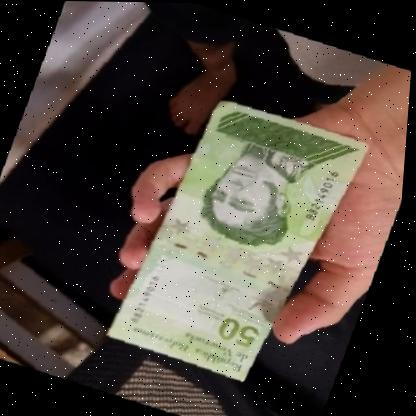fifty-front-vef: (105, 87, 377, 393)
